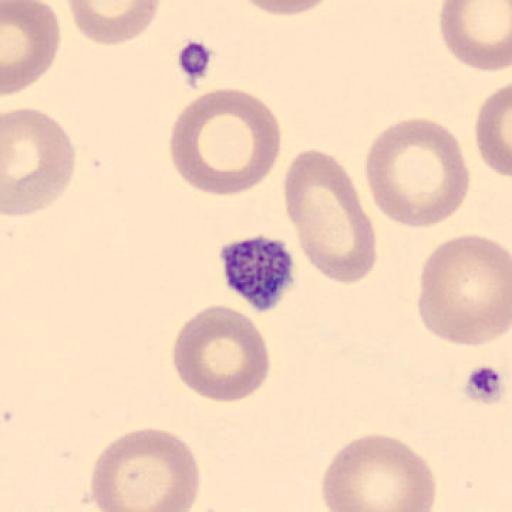Platelet: (216, 232, 297, 314)
RBC: (282, 147, 376, 287), (168, 88, 283, 197), (362, 116, 470, 230), (416, 231, 512, 348), (170, 303, 272, 405), (90, 426, 202, 512), (320, 431, 438, 512), (1, 106, 77, 218), (1, 0, 61, 97), (439, 0, 512, 72), (66, 0, 162, 47), (473, 80, 512, 180), (71, 0, 162, 23), (233, 0, 337, 17)
